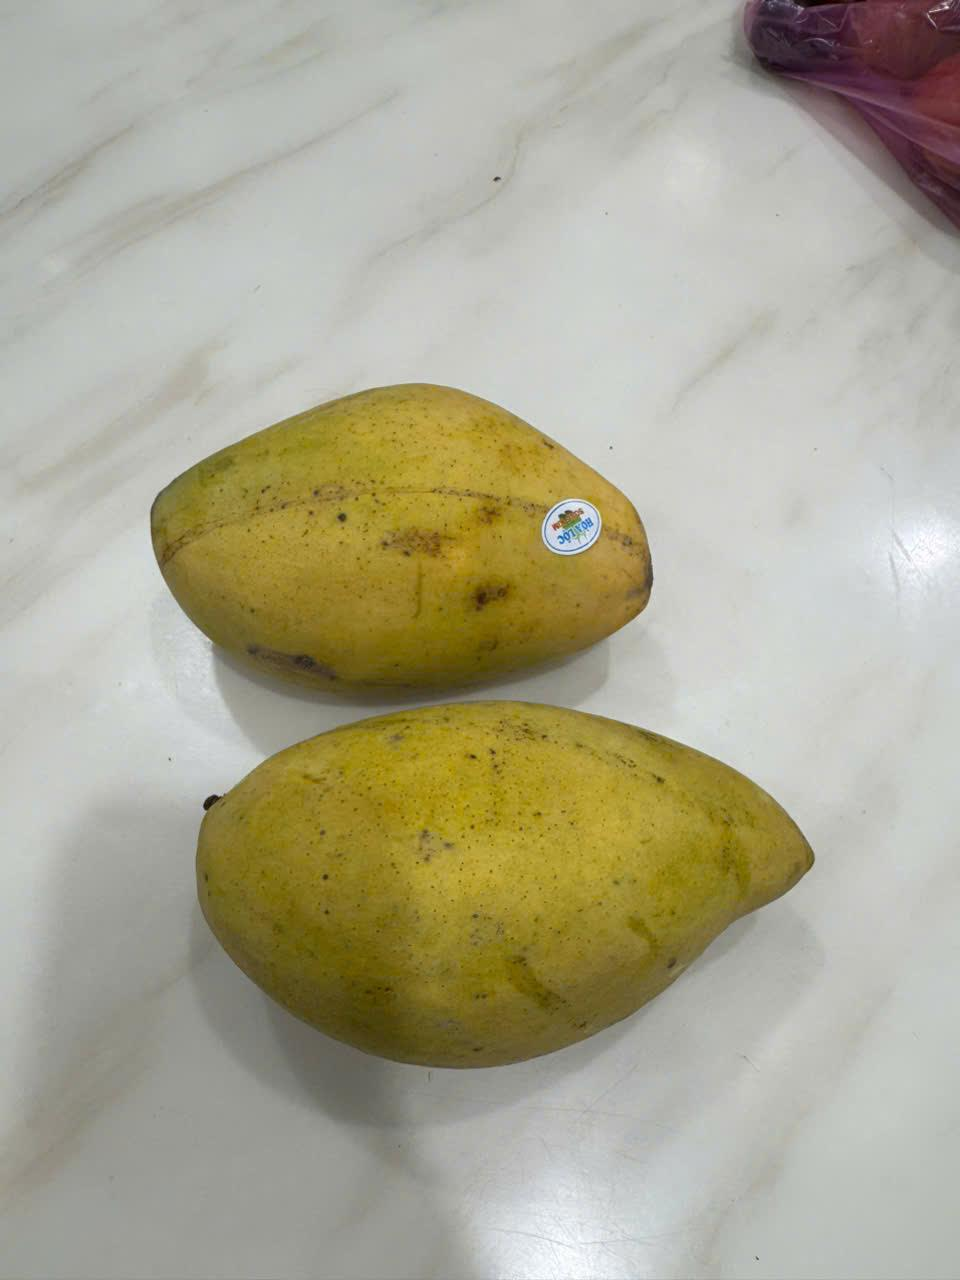mango: (96, 694, 855, 1097), (110, 336, 681, 685)
